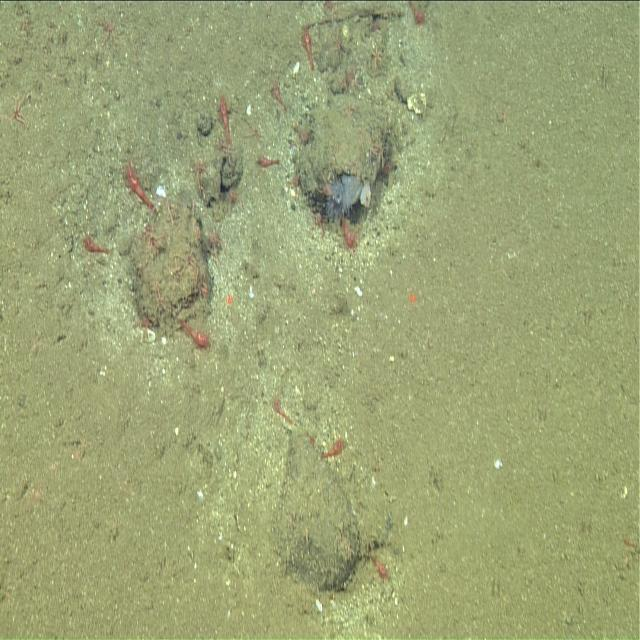Brittle Star: (0, 84, 36, 139)
Not Brittle Star: (119, 149, 157, 217), (78, 224, 114, 265), (367, 550, 393, 586), (254, 147, 284, 175)
